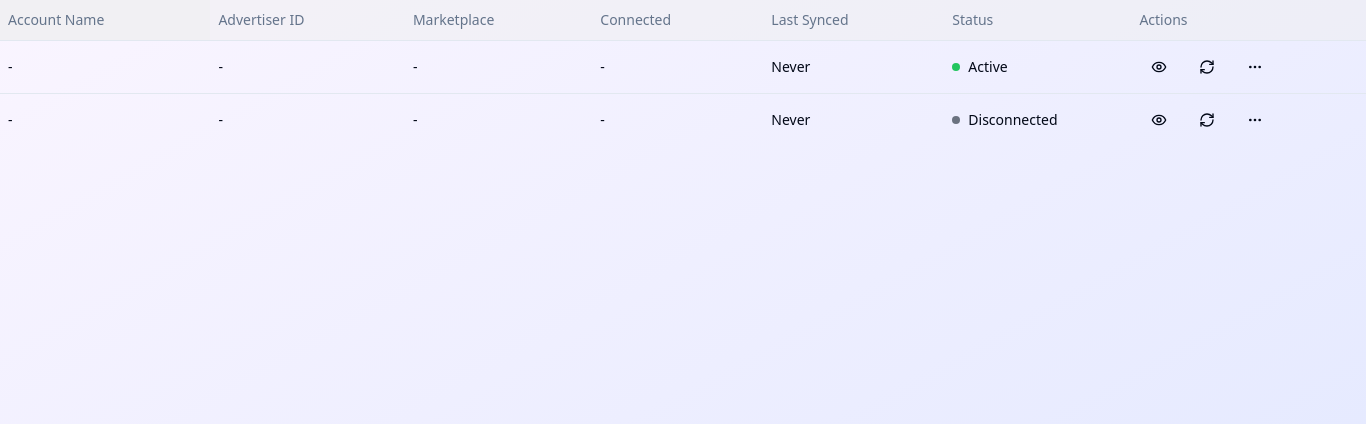
Test: AccountTypeTable › Actions › should show type-specific actions for DSP
Click the 3rd button named "More": [1255, 66] box [1235,48,1275,84]
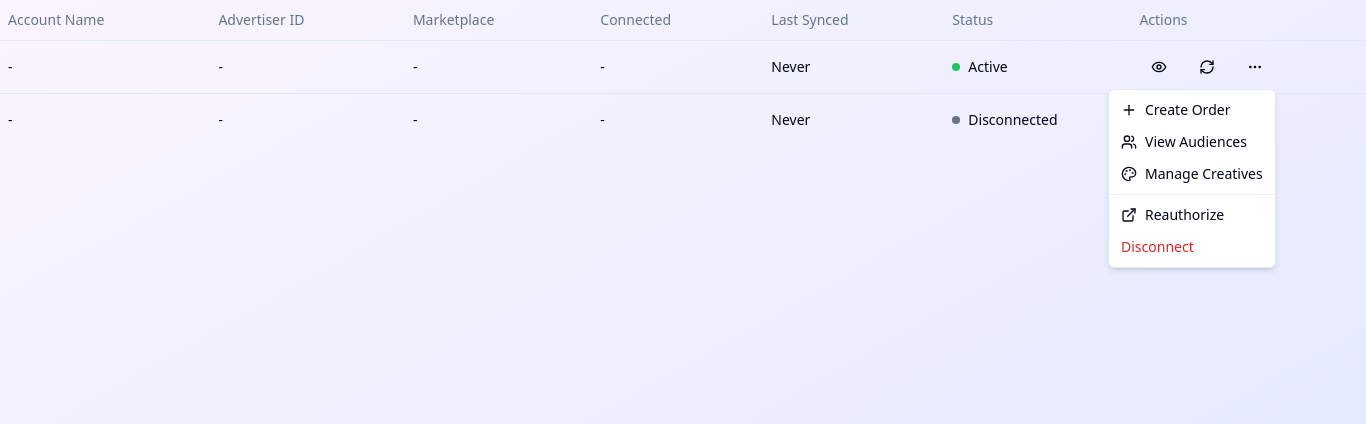
Check: the menu item "Create Order" is shown, box [1121,100,1230,119]
Check: the menu item "View Audiences" is shown, box [1121,132,1247,151]
Check: the menu item "Manage Creatives" is shown, box [1121,164,1263,183]
